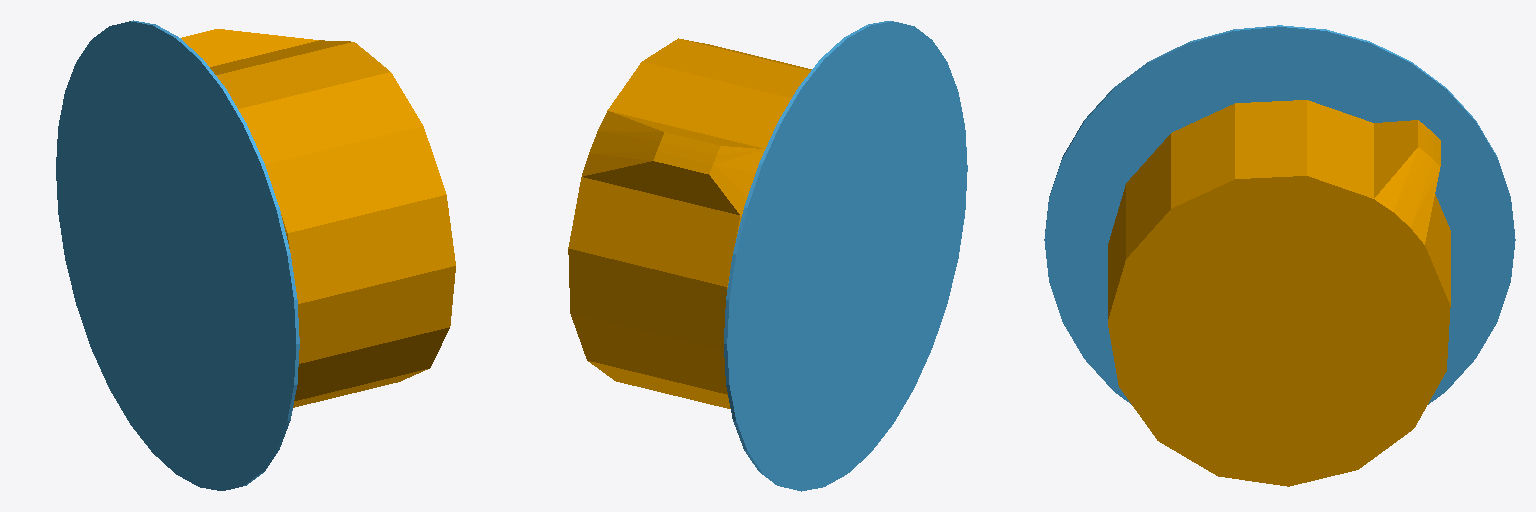
robot.urdf — panda:
<?xml version="1.0" encoding="utf-8"?>
<!-- =================================================================================== -->
<!-- |    This document was autogenerated by xacro from [local-path]/catkin_ws/src/ral_rock_manipulation/ral_robots_description/robots/panda_exv_2_high.robot.xacro | -->
<!-- |    EDITING THIS FILE BY HAND IS NOT RECOMMENDED                                 | -->
<!-- =================================================================================== -->
<robot name="panda">
  <!-- panda -->
  <link name="world"/>
  <joint name="fixed" type="fixed">
    <parent link="world"/>
    <child link="base_link"/>
  </joint>
  <link name="base_link">
    <inertial>
      <mass value="2.92"/>
      <origin rpy="0 0 0" xyz="-0.025566 -2.88e-05 0.057332"/>
      <inertia ixx="0.00782229414331" ixy="-1.56191622996e-05" ixz="-0.00126005738123" iyy="0.0109027971813" iyz="1.08233858202e-05" izz="0.0102355503949"/>
    </inertial>
    <visual>
      <geometry>
        <mesh filename="collision/link0.stl"/>
      </geometry>
    </visual>
    <collision>
      <origin rpy="0 0 0" xyz="0 0 0"/>
      <geometry>
        <mesh filename="collision/link0.stl"/>
      </geometry>
    </collision>
  </link>
  <link name="panda_link1">
    <inertial>
      <mass value="2.74"/>
      <origin rpy="0 0 0" xyz="0 -0.0324958 -0.0675818"/>
      <inertia ixx="0.0180416958283" ixy="0.0" ixz="0.0" iyy="0.0159136071891" iyz="0.0046758424612" izz="0.00620690827127"/>
    </inertial>
    <visual>
      <geometry>
        <mesh filename="collision/link1.stl"/>
      </geometry>
    </visual>
    <collision>
      <origin rpy="0 0 0" xyz="0 0 0"/>
      <geometry>
        <mesh filename="collision/link1.stl"/>
      </geometry>
    </collision>
  </link>
  <joint name="panda_joint1" type="revolute">
    <safety_controller k_position="100.0" k_velocity="40.0" soft_lower_limit="-2.8973" soft_upper_limit="2.8973"/>
    <origin rpy="0 0 0" xyz="0 0 0.333"/>
    <parent link="base_link"/>
    <child link="panda_link1"/>
    <axis xyz="0 0 1"/>
    <limit effort="87" lower="-2.8973" upper="2.8973" velocity="2.1750"/>
  </joint>
  <link name="panda_link2">
    <inertial>
      <mass value="2.74"/>
      <origin rpy="0 0 0" xyz="0 -0.06861 0.0322285"/>
      <inertia ixx="0.0182856182281" ixy="0.0" ixz="0.0" iyy="0.00621358421175" iyz="-0.00472844221905" izz="0.0161514346309"/>
    </inertial>
    <visual>
      <geometry>
        <mesh filename="collision/link2.stl"/>
      </geometry>
    </visual>
    <collision>
      <origin rpy="0 0 0" xyz="0 0 0"/>
      <geometry>
        <mesh filename="collision/link2.stl"/>
      </geometry>
    </collision>
  </link>
  <joint name="panda_joint2" type="revolute">
    <safety_controller k_position="100.0" k_velocity="40.0" soft_lower_limit="-1.7628" soft_upper_limit="1.7628"/>
    <origin rpy="-1.57079632679 0 0" xyz="0 0 0"/>
    <parent link="panda_link1"/>
    <child link="panda_link2"/>
    <axis xyz="0 0 1"/>
    <limit effort="87" lower="-1.7628" upper="1.7628" velocity="2.1750"/>
  </joint>
  <link name="panda_link3">
    <inertial>
      <mass value="2.38"/>
      <origin rpy="0 0 0" xyz="0.0469893 0.0316374 -0.031704"/>
      <inertia ixx="0.00771376630908" ixy="-0.00248490625138" ixz="-0.00332147581033" iyy="0.00989108008727" iyz="-0.00217796151484" izz="0.00811723558464"/>
    </inertial>
    <visual>
      <geometry>
        <mesh filename="collision/link3.stl"/>
      </geometry>
    </visual>
    <collision>
      <origin rpy="0 0 0" xyz="0 0 0"/>
      <geometry>
        <mesh filename="collision/link3.stl"/>
      </geometry>
    </collision>
  </link>
  <joint name="panda_joint3" type="revolute">
    <safety_controller k_position="100.0" k_velocity="40.0" soft_lower_limit="-2.8973" soft_upper_limit="2.8973"/>
    <origin rpy="1.57079632679 0 0" xyz="0 -0.316 0"/>
    <parent link="panda_link2"/>
    <child link="panda_link3"/>
    <axis xyz="0 0 1"/>
    <limit effort="87" lower="-2.8973" upper="2.8973" velocity="2.1750"/>
  </joint>
  <link name="elbow_link">
    <inertial>
      <mass value="2.38"/>
      <origin rpy="0 0 0" xyz="-0.0360446 0.0336853 0.031882"/>
      <inertia ixx="0.00799663881132" ixy="0.00347095570217" ixz="-0.00241222942995" iyy="0.00825390705278" iyz="0.00235774044121" izz="0.0102515004345"/>
    </inertial>
    <visual>
      <geometry>
        <mesh filename="collision/link4.stl"/>
      </geometry>
    </visual>
    <collision>
      <origin rpy="0 0 0" xyz="0 0 0"/>
      <geometry>
        <mesh filename="collision/link4.stl"/>
      </geometry>
    </collision>
  </link>
  <joint name="panda_joint4" type="revolute">
    <safety_controller k_position="100.0" k_velocity="40.0" soft_lower_limit="-3.0718" soft_upper_limit="-0.0698"/>
    <origin rpy="1.57079632679 0 0" xyz="0.0825 0 0"/>
    <parent link="panda_link3"/>
    <child link="elbow_link"/>
    <axis xyz="0 0 1"/>
    <limit effort="87" lower="-3.0718" upper="-0.0698" velocity="2.1750"/>
  </joint>
  <link name="panda_link5">
    <inertial>
      <mass value="2.74"/>
      <origin rpy="0 0 0" xyz="0 0.0610427 -0.104176"/>
      <inertia ixx="0.030371374513" ixy="6.50283587108e-07" ixz="-1.05129179916e-05" iyy="0.0288752887402" iyz="-0.00775653445787" izz="0.00444134056164"/>
    </inertial>
    <visual>
      <geometry>
        <mesh filename="collision/link5.stl"/>
      </geometry>
    </visual>
    <collision>
      <origin rpy="0 0 0" xyz="0 0 0"/>
      <geometry>
        <mesh filename="collision/link5.stl"/>
      </geometry>
    </collision>
  </link>
  <joint name="panda_joint5" type="revolute">
    <safety_controller k_position="100.0" k_velocity="40.0" soft_lower_limit="-2.8973" soft_upper_limit="2.8973"/>
    <origin rpy="-1.57079632679 0 0" xyz="-0.0825 0.384 0"/>
    <parent link="elbow_link"/>
    <child link="panda_link5"/>
    <axis xyz="0 0 1"/>
    <limit effort="12" lower="-2.8973" upper="2.8973" velocity="2.6100"/>
  </joint>
  <link name="panda_link6">
    <inertial>
      <mass value="1.55"/>
      <origin rpy="0 0 0" xyz="0.0510509 0.009108 0.0106343"/>
      <inertia ixx="0.00303336450376" ixy="-0.000437276865508" ixz="0.000629257294877" iyy="0.00404479911567" iyz="0.000130472021025" izz="0.00558234286039"/>
    </inertial>
    <visual>
      <geometry>
        <mesh filename="collision/link6.stl"/>
      </geometry>
    </visual>
    <collision>
      <origin rpy="0 0 0" xyz="0 0 0"/>
      <geometry>
        <mesh filename="collision/link6.stl"/>
      </geometry>
    </collision>
  </link>
  <joint name="panda_joint6" type="revolute">
    <safety_controller k_position="100.0" k_velocity="40.0" soft_lower_limit="-0.0175" soft_upper_limit="3.7525"/>
    <origin rpy="1.57079632679 0 0" xyz="0 0 0"/>
    <parent link="panda_link5"/>
    <child link="panda_link6"/>
    <axis xyz="0 0 1"/>
    <limit effort="12" lower="-0.0175" upper="3.7525" velocity="2.6100"/>
  </joint>
  <link name="panda_link7">
    <inertial>
      <mass value="0.54"/>
      <origin rpy="0 0 0" xyz="0.0109695 0.0107965 0.0650411"/>
      <inertia ixx="0.000888868887021" ixy="-0.00012239074652" ixz="3.98699829666e-05" iyy="0.000888001373233" iyz="-9.33825115206e-05" izz="0.0007176834609"/>
    </inertial>
    <visual>
      <geometry>
        <mesh filename="collision/link7_no_grip.stl"/>
      </geometry>
    </visual>
    <collision>
      <origin rpy="0 0 0" xyz="0 0 0"/>
      <geometry>
        <mesh filename="collision/link7_no_grip.stl"/>
      </geometry>
    </collision>
  </link>
  <joint name="panda_joint7" type="revolute">
    <safety_controller k_position="100.0" k_velocity="40.0" soft_lower_limit="-2.8973" soft_upper_limit="2.8973"/>
    <origin rpy="1.57079632679 0 0" xyz="0.088 0 0"/>
    <parent link="panda_link6"/>
    <child link="panda_link7"/>
    <axis xyz="0 0 1"/>
    <limit effort="12" lower="-2.8973" upper="2.8973" velocity="2.6100"/>
  </joint>
  <link name="tool_link">
    <inertial>
      <mass value="0.001"/>
      <origin rpy="0 0 0" xyz="0. 0. 0."/>
      <inertia ixx="0.00001" ixy="0" ixz="0" iyy="0.00001" iyz="0" izz="0.00001"/>
    </inertial>
    <visual>
      <geometry>
        <cylinder length="0.001" radius="0.06"/>
      </geometry>
    </visual>
    <!-- <collision>
        <origin xyz="0.0424 0.0424 -0.0250" rpy="${pi} ${pi/2} ${pi/2}"/>
        <geometry>
          <cylinder radius="${0.03+safety_distance}"  length="0.01" />
        </geometry>
      </collision>
      <collision>
        <origin xyz="0.0424 0.0424 -0.02" rpy="0 0 0"/>
        <geometry>
          <sphere radius="${0.03+safety_distance}"  />
        </geometry>
      </collision>
      <collision>
        <origin xyz="0.0424 0.0424 -0.03" rpy="0 0 0"/>
        <geometry>
          <sphere radius="${0.03+safety_distance}"  />
        </geometry>
      </collision> -->
  </link>
  <joint name="panda_joint8" type="fixed">
    <origin rpy="0 0 0" xyz="0 0 0.107"/>
    <parent link="panda_link7"/>
    <child link="tool_link"/>
  </joint>


  <klampt>
    <noselfcollision pairs="panda_link1 panda_link2" />
    <noselfcollision pairs="panda_link2 panda_link3" />
    <noselfcollision pairs="elbow_link panda_link3" />
    <noselfcollision pairs="elbow_link panda_link5" />
    <noselfcollision pairs="panda_link5 panda_link6" />
  </klampt>

</robot>

--- What the picture shows (computed from the rendered views, not written in the file) ---
3 views of the same robot in one strip: view 1: azimuth 30°, elevation 25°; view 2: azimuth 150°, elevation 25°; view 3: azimuth 270°, elevation 25° (orthographic).
Model panda with 10 links and 9 joints (7 revolute, 2 fixed), rooted at world, posed all joints at 0 but 1 set to mid-range because 0 is outside their limits (panda_joint4 = -1.57).
Links seen in each view (by area): view 1: tool_link, panda_link7; view 2: tool_link, panda_link7; view 3: panda_link7, tool_link.
Link boxes in pixels (bbox=[...]): tool_link: bbox=[56, 20, 299, 490]; panda_link7: bbox=[181, 29, 455, 407]; tool_link: bbox=[724, 21, 967, 491]; panda_link7: bbox=[568, 38, 811, 408]; panda_link7: bbox=[1108, 100, 1450, 486]; tool_link: bbox=[1044, 25, 1515, 404].
Size in the robot's own frame: 0.0553 by 0.12 by 0.12 metres.
1 mesh visuals loaded from 8 distinct referenced files (1 binary STL); not drawn: 7 (reference not matched to a file when rendering).